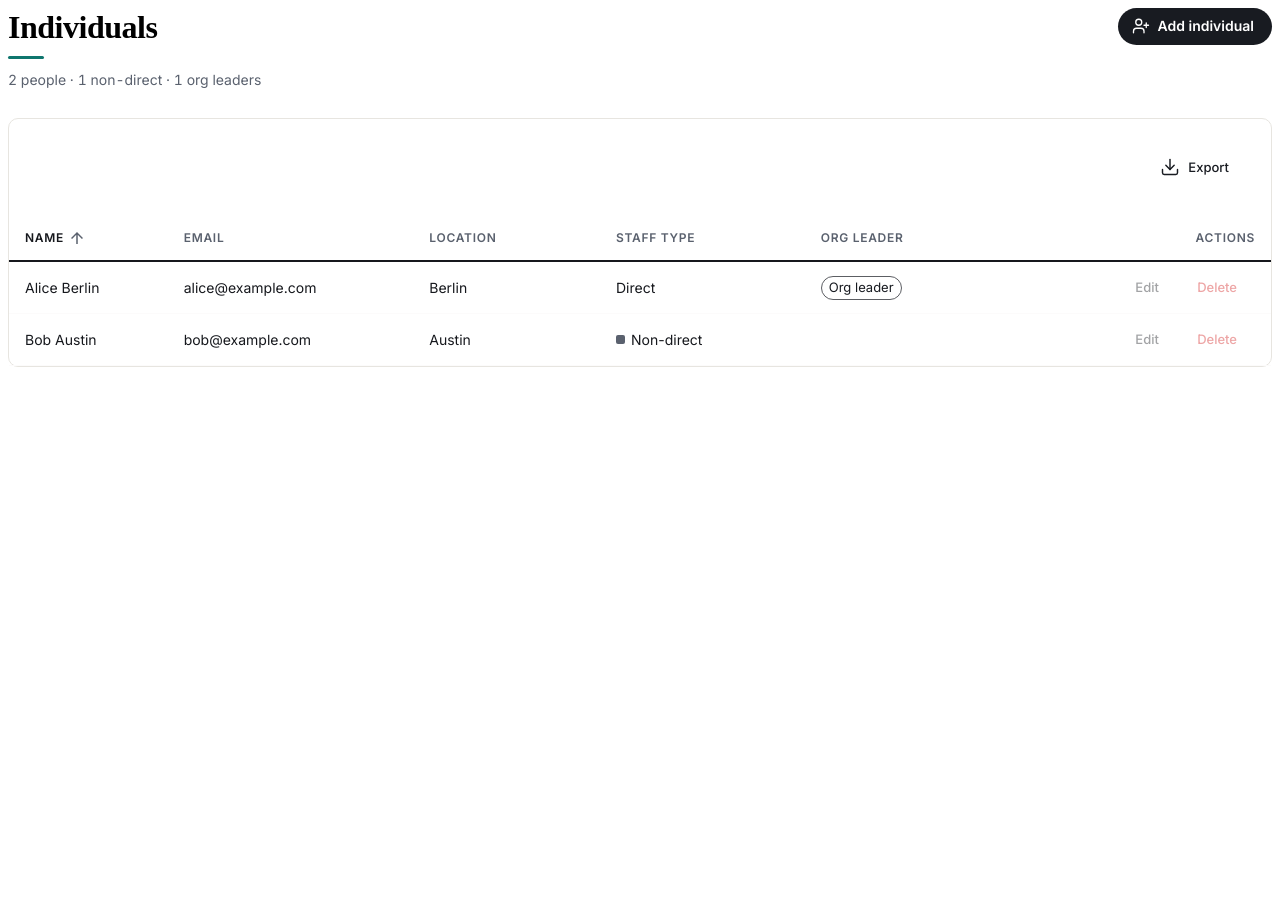
Test: Individuals page › shows an error and stays open when the create is rejected
This screenshot has width=1280, height=900.
expect the text "Alice Berlin" is shown: met, box [9,261,168,313]
Click the button "Add individual".
click(1195, 26)  # box [1118,8,1272,44]
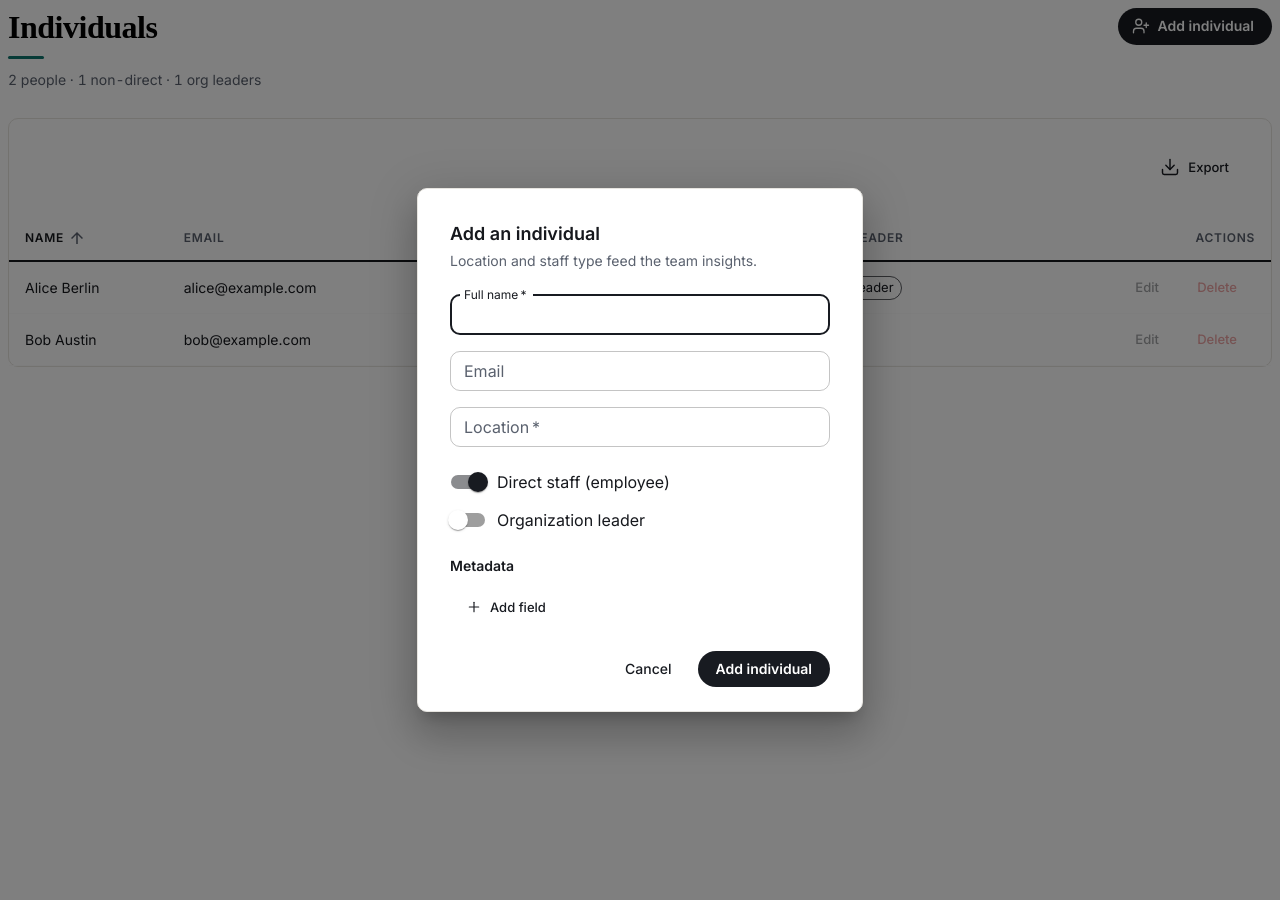
Type "Dup" into the field labelled "Full name *".
click(640, 315); type("Dup")  # box [450,295,830,335]
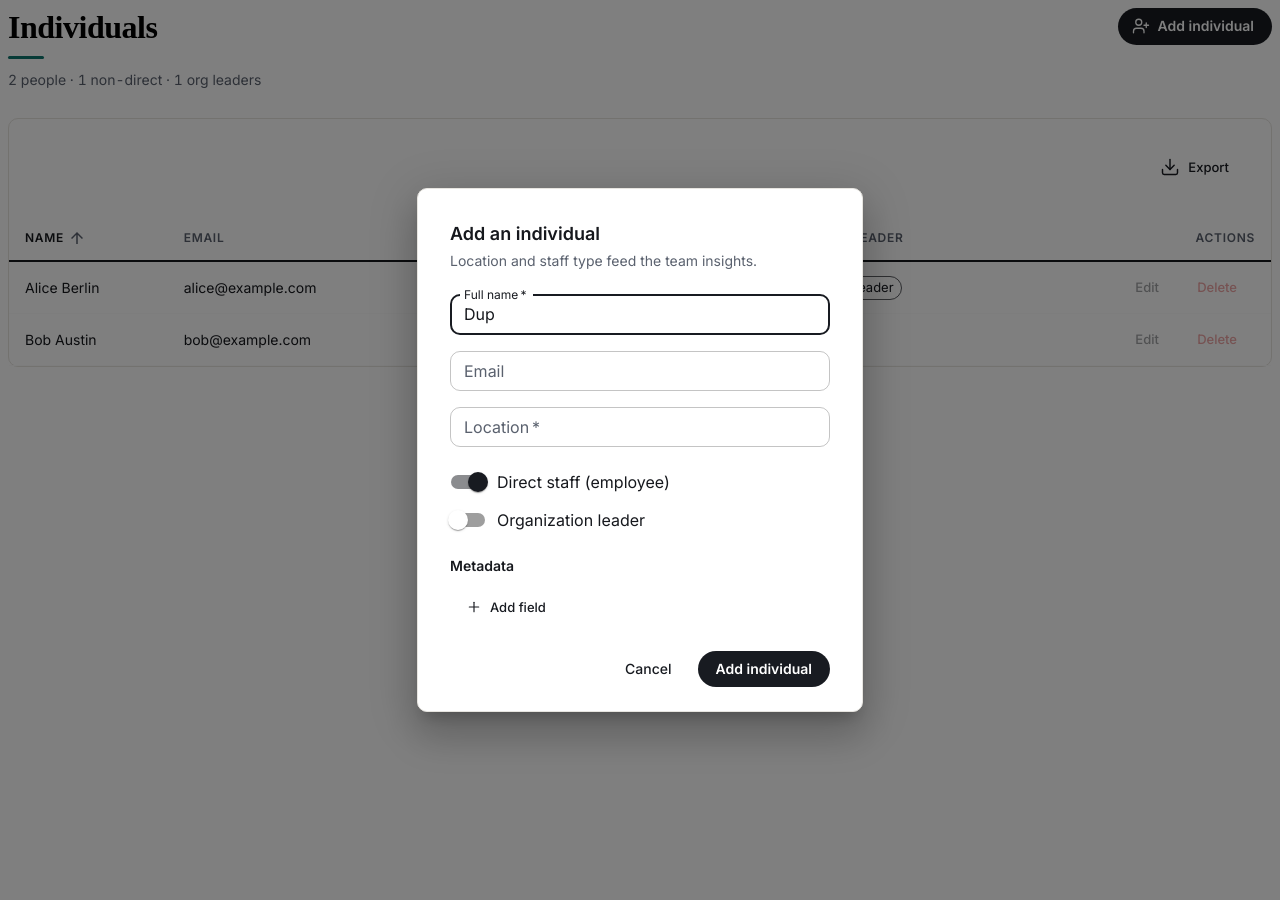
Type "Berlin" into the field labelled "Location *".
click(640, 427); type("Berlin")  # box [450,407,830,447]
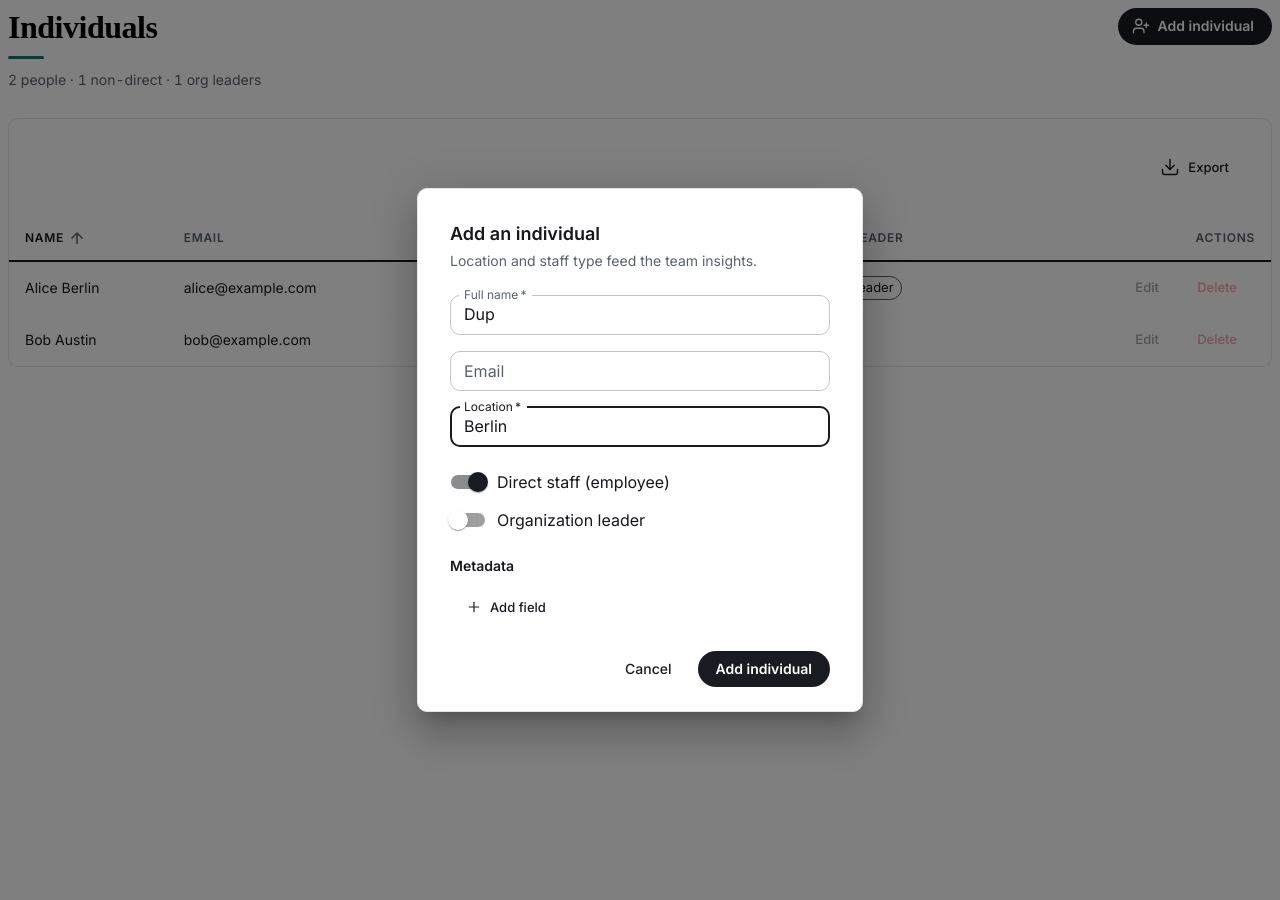
Click the button "Add individual".
click(764, 669)  # box [698,651,830,687]
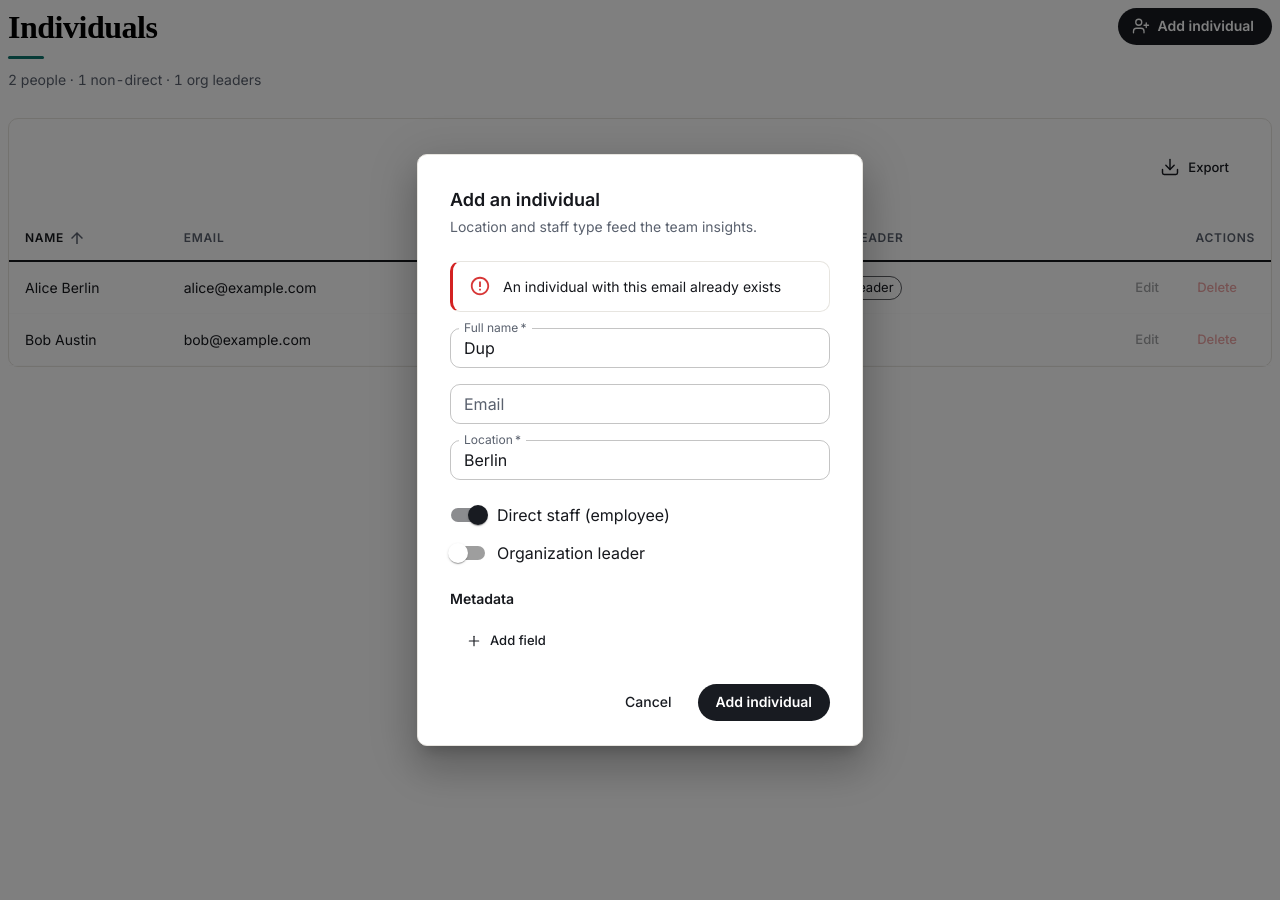
expect the dialog "Add an individual" is shown: met, box [417,154,863,746]
expect the text "An individual with this email already exists" is shown: met, box [503,278,781,296]
